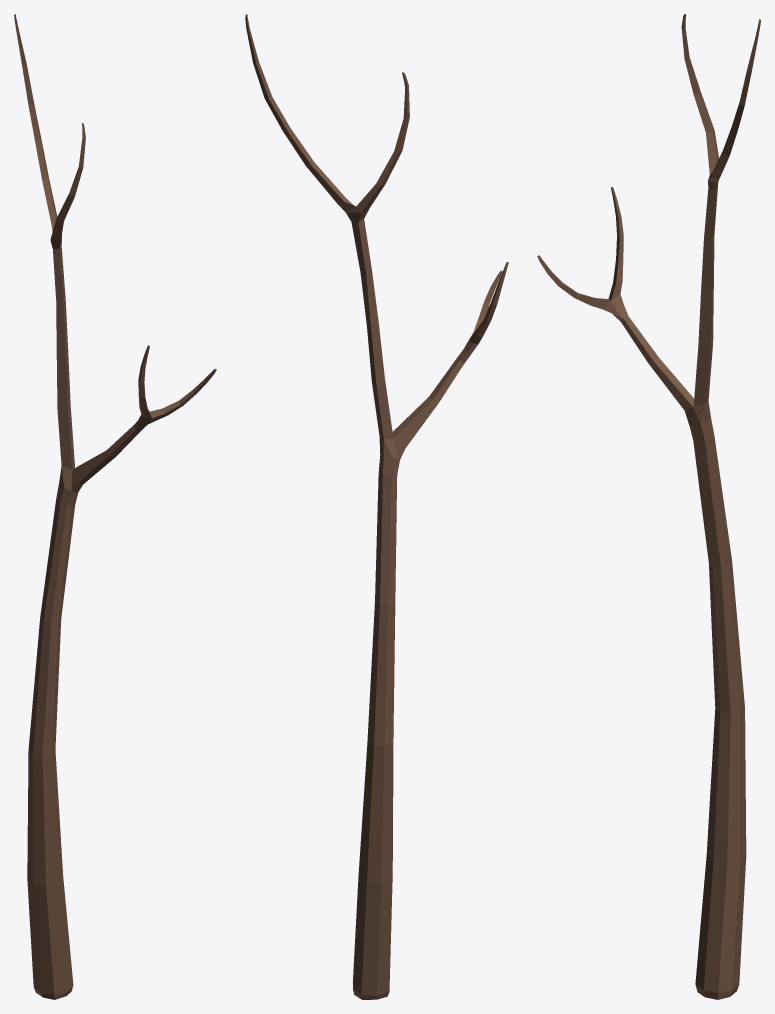
File: tree03.glb
3 views of the same model, side by side, from view 1: azimuth 90°, elevation 25°; view 2: azimuth 150°, elevation 25°; view 3: azimuth 270°, elevation 25° (orthographic). The views are drawn at different scales.
Visible parts, largest first — view 1: Vert.004; view 2: Vert.004; view 3: Vert.004.
Boxes of the visible parts, box(x1,y1,x2,y2) form: Vert.004: box(14, 14, 216, 999); Vert.004: box(245, 14, 508, 999); Vert.004: box(537, 14, 760, 999).
Size of the model in its own units: 0.887 by 4.24 by 0.8385.
Materials: 1 (1 with a texture image).
